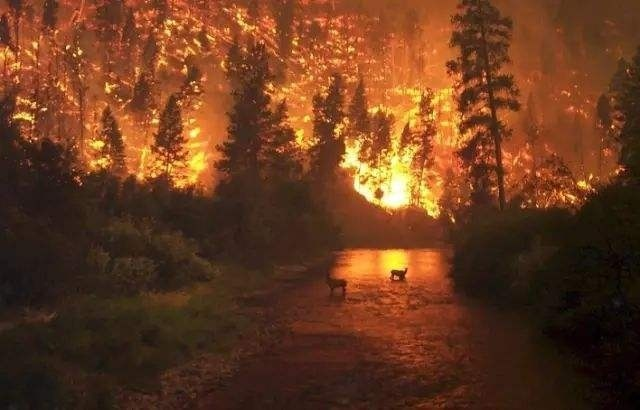fire: (0, 0, 480, 199)
